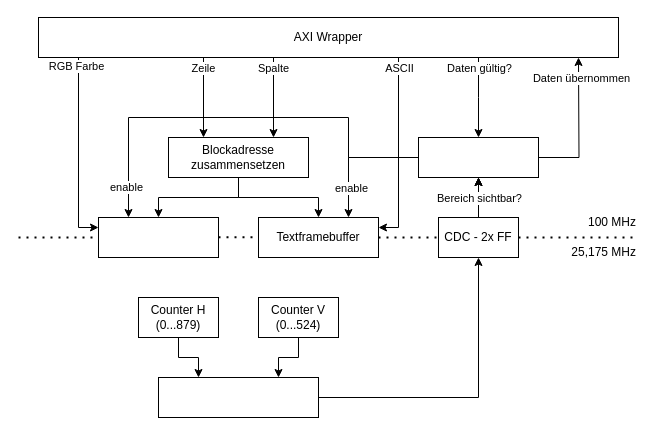
This 657x435 diagram has some shape labels left out. The shapes that lost their labels are listed below. From the top down, each one's box as (x1, y1, x2, y2) in pixels, then its label:
(418, 136, 538, 178): Daten gültig und im sichtbaren Bereich?
(98, 216, 218, 258): Farbframebuffer
(158, 376, 318, 418): Pixel im sichtbaren Bereich?
